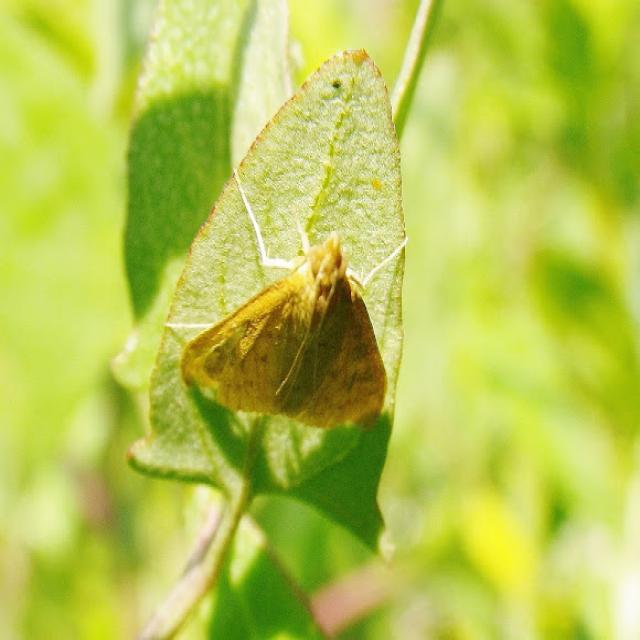cornborer-Adult-: (175, 156, 410, 440)
